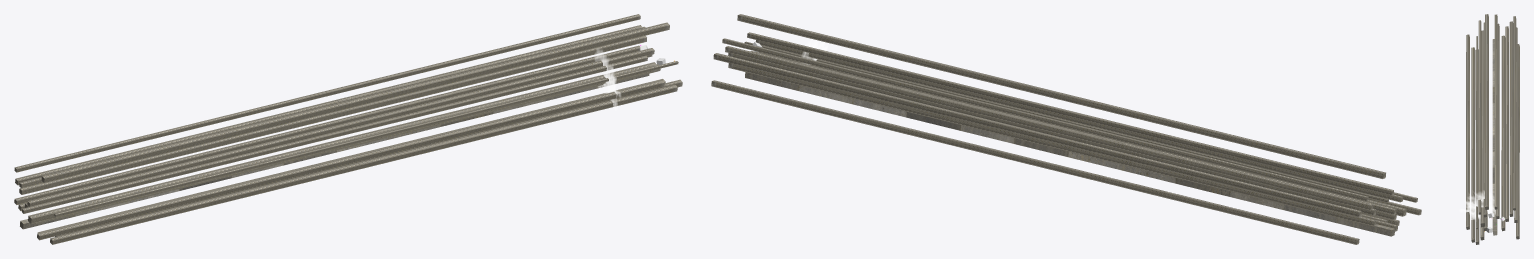
File: Glass Cube.glb
3 renders of one model, left to right at view 1: azimuth 30°, elevation 25°; view 2: azimuth 150°, elevation 25°; view 3: azimuth 270°, elevation 25°, orthographic. The views are drawn at different scales.
Parts seen in each view (by area): view 1: Cube.018, Smoke; view 2: Cube.018; view 3: Cube.018, Smoke.
Part boxes in pixels (x1,y1,x2,y2): Cube.018: (14, 14, 682, 244); Smoke: (594, 48, 620, 110); Cube.018: (711, 14, 1421, 244); Cube.018: (1466, 14, 1519, 244); Smoke: (1459, 191, 1495, 222).
Size of the model in its own units: 100 by 11.92 by 14.55.
Materials: 8 (2 with a texture image).
